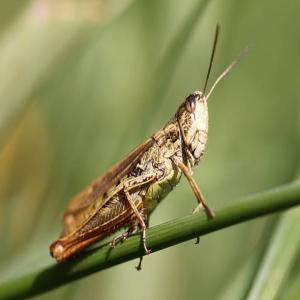locust: (68, 33, 234, 272)
